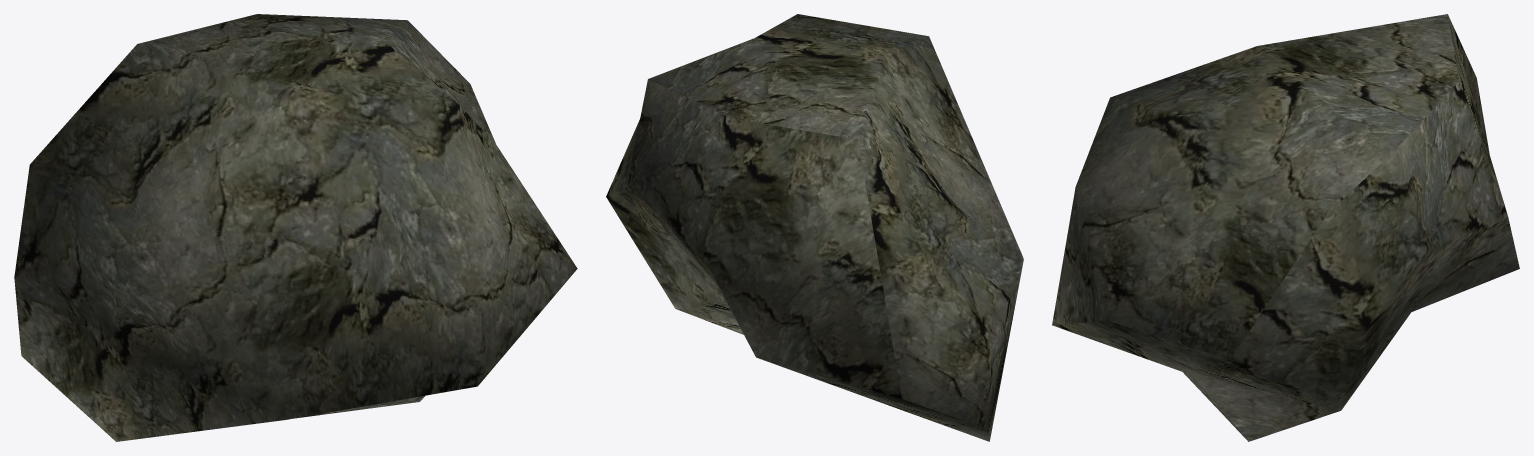
The model's file is MIN_COB_STONE_V2_10.glb.
3 views of the same model, side by side, from view 1: azimuth 30°, elevation 25°; view 2: azimuth 150°, elevation 25°; view 3: azimuth 270°, elevation 25° (orthographic). The views are drawn at different scales.
Parts seen in each view (by area): view 1: Mesh; view 2: Mesh; view 3: Mesh.
Boxes of the visible parts, box(x1,y1,x2,y2) form: Mesh: box(14, 14, 577, 441); Mesh: box(606, 14, 1023, 441); Mesh: box(1052, 14, 1519, 441).
Bounding box in the file's own units: 0.8552 × 0.6556 × 0.791.
Materials: 1 (1 with a texture image).
